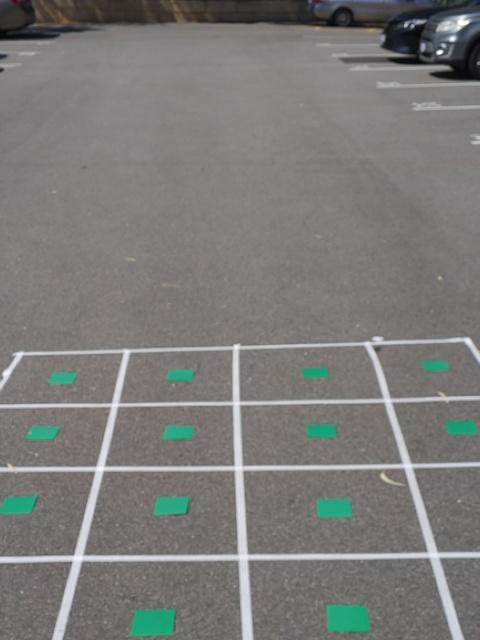weed: (128, 603, 181, 640), (326, 600, 372, 637), (312, 497, 354, 521), (153, 493, 191, 519), (441, 416, 479, 439), (0, 496, 41, 517), (24, 422, 58, 444), (163, 364, 198, 384), (298, 363, 332, 382), (418, 356, 450, 376), (162, 422, 193, 442), (306, 420, 334, 442), (53, 369, 70, 386)
